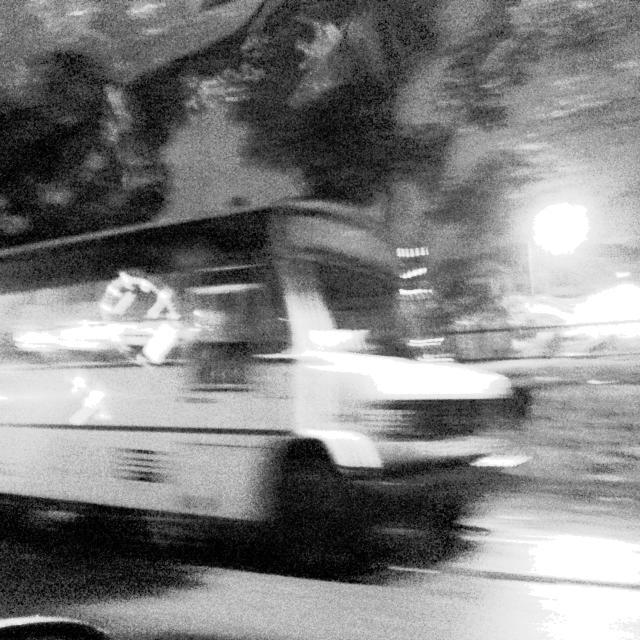Bus: (8, 194, 500, 594)
